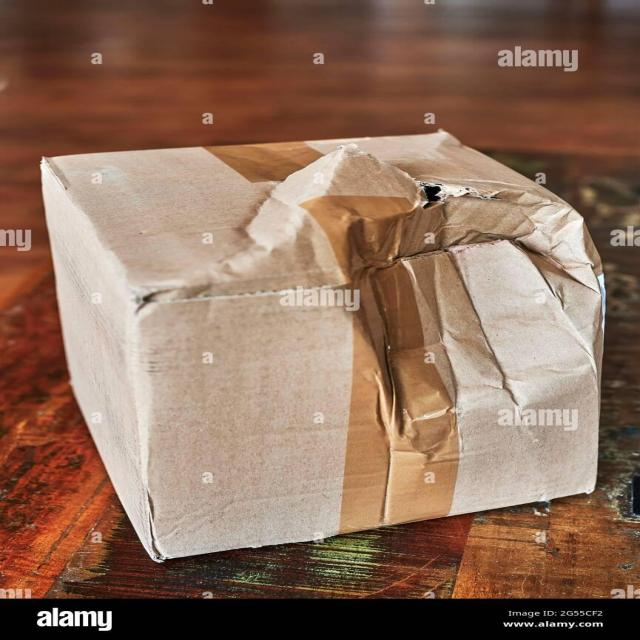Garbage: (34, 130, 623, 567)
